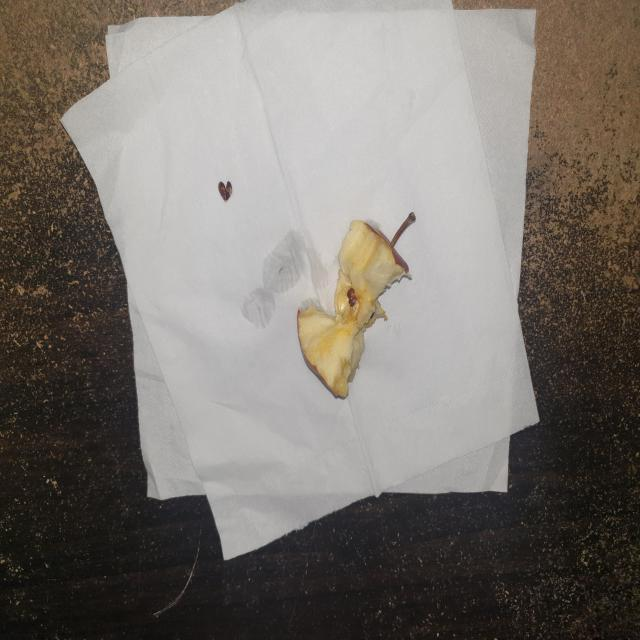apple: (300, 186, 424, 410)
